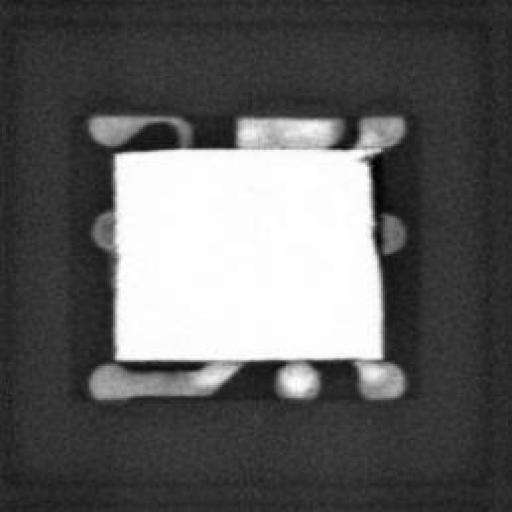DIE_BROKEN: (359, 148, 383, 260)
